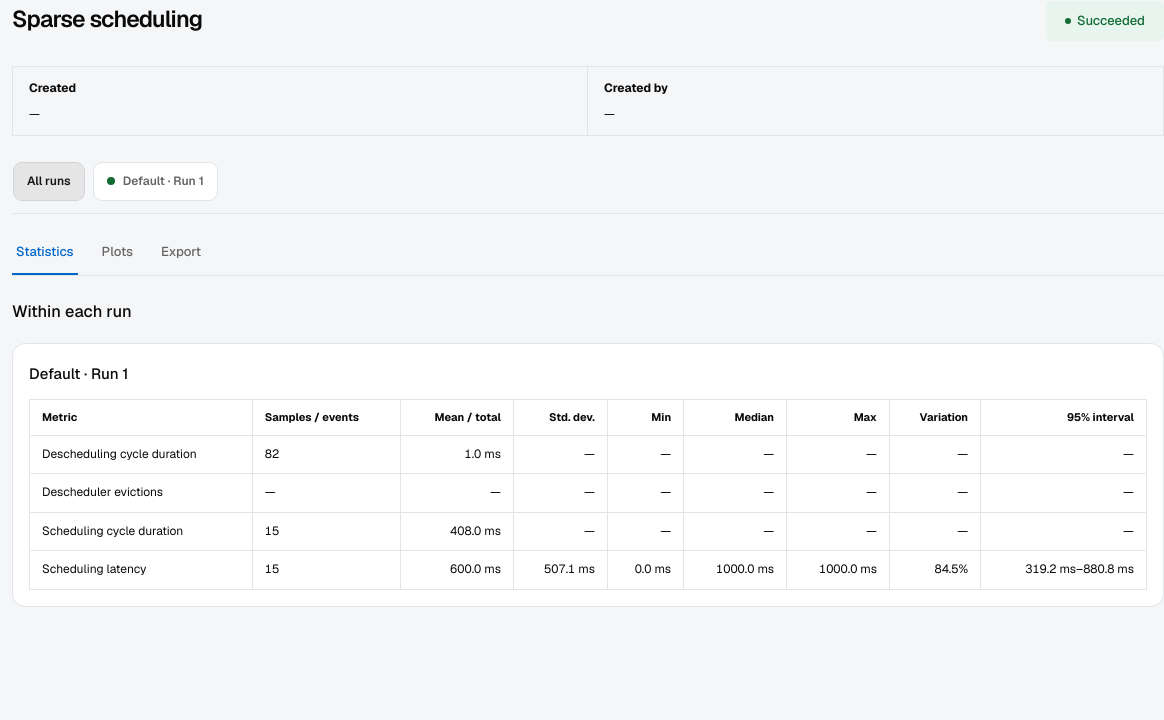
Test: keeps scheduler and descheduler metrics in statistics while omitting all their plots
Check: the table named "Statistics for Default · Run 1" is shown, box [29,399,1147,590]
Click the button "Plots": (117, 252) [98,230,137,275]
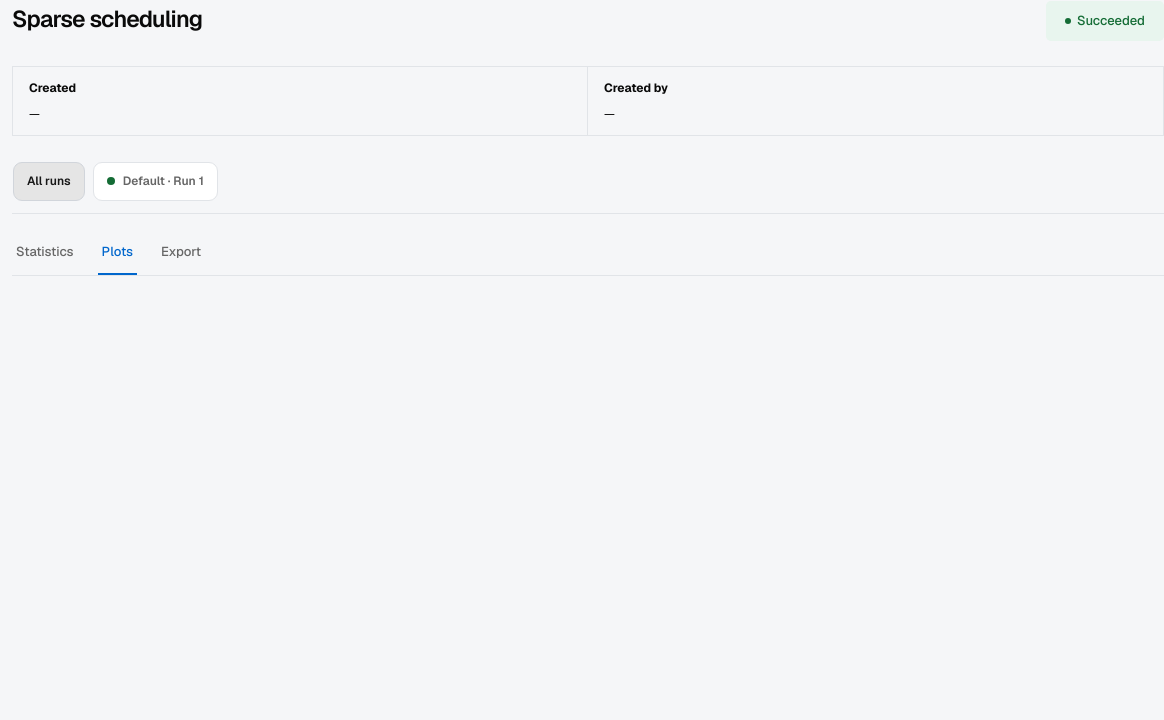
Click the button "Statistics": (45, 252) [12,230,78,275]
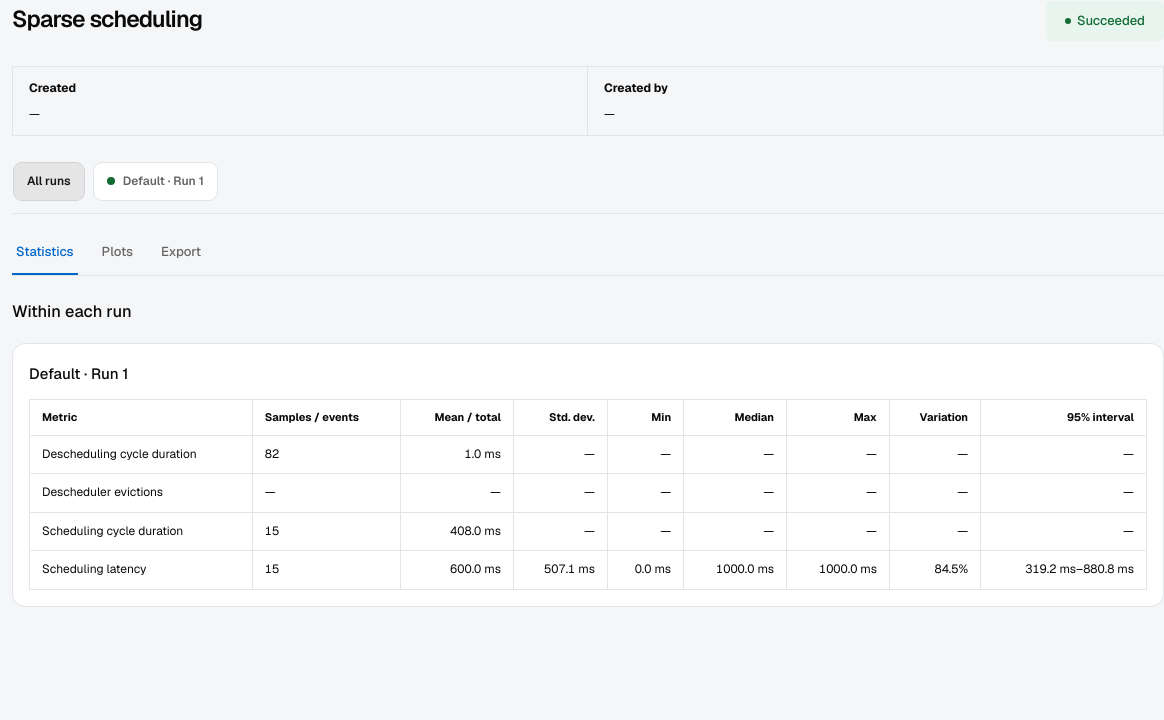
Check: the text "Scheduling latency" shows "600.0 ms", box [450,561,501,577]
Check: the text "Scheduling latency" shows "507.1 ms", box [544,561,595,577]
